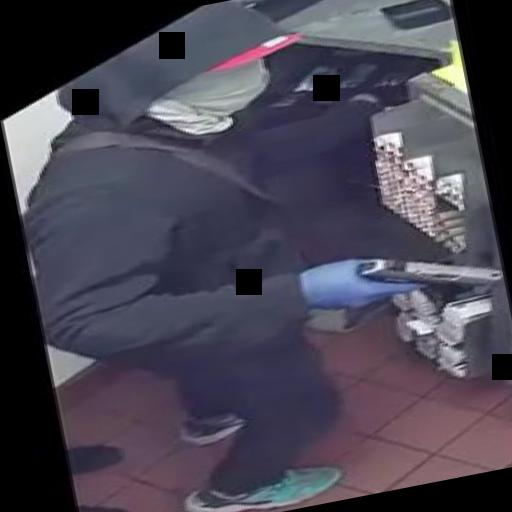Handgun: (318, 228, 506, 321)
